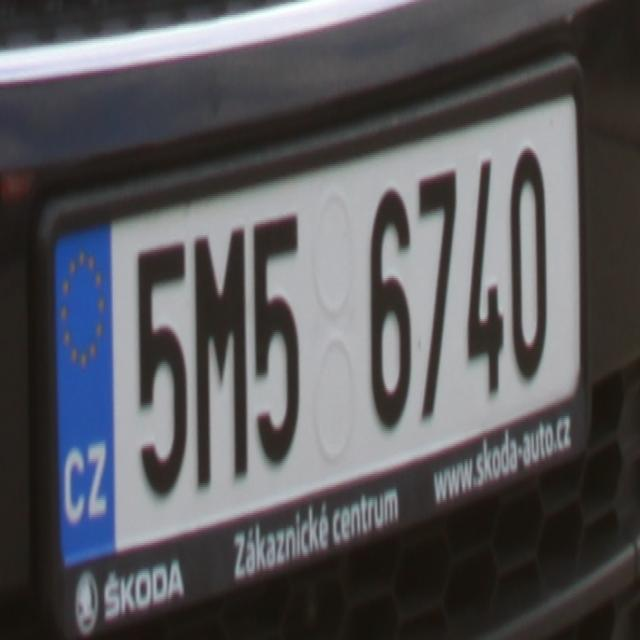0: (507, 142, 549, 382)
4: (462, 158, 506, 396)
5: (134, 244, 186, 496), (253, 207, 301, 463)
6: (368, 188, 414, 428)
7: (417, 162, 457, 418)
M: (192, 226, 248, 491)
